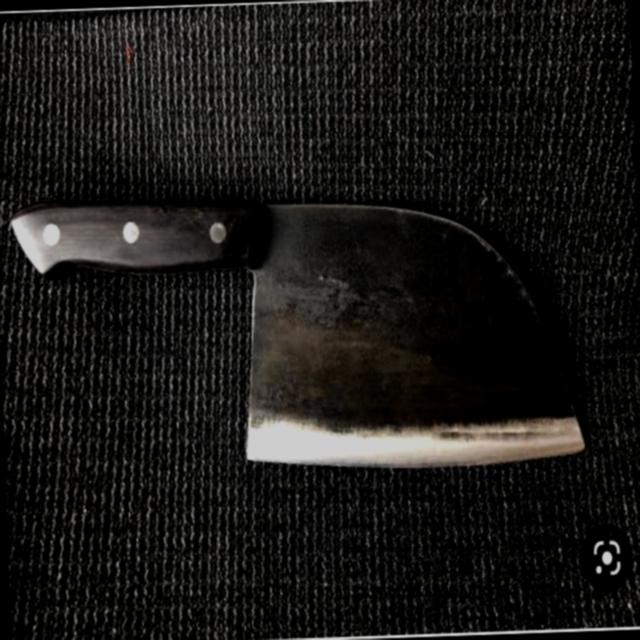knife: (7, 160, 597, 497)
